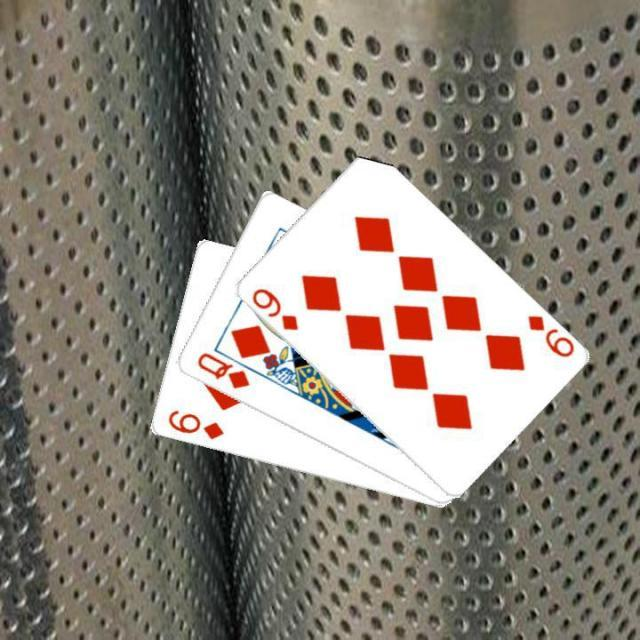6D: (163, 406, 225, 442)
9D: (523, 311, 577, 359), (247, 285, 299, 333)
QD: (193, 349, 251, 391)
